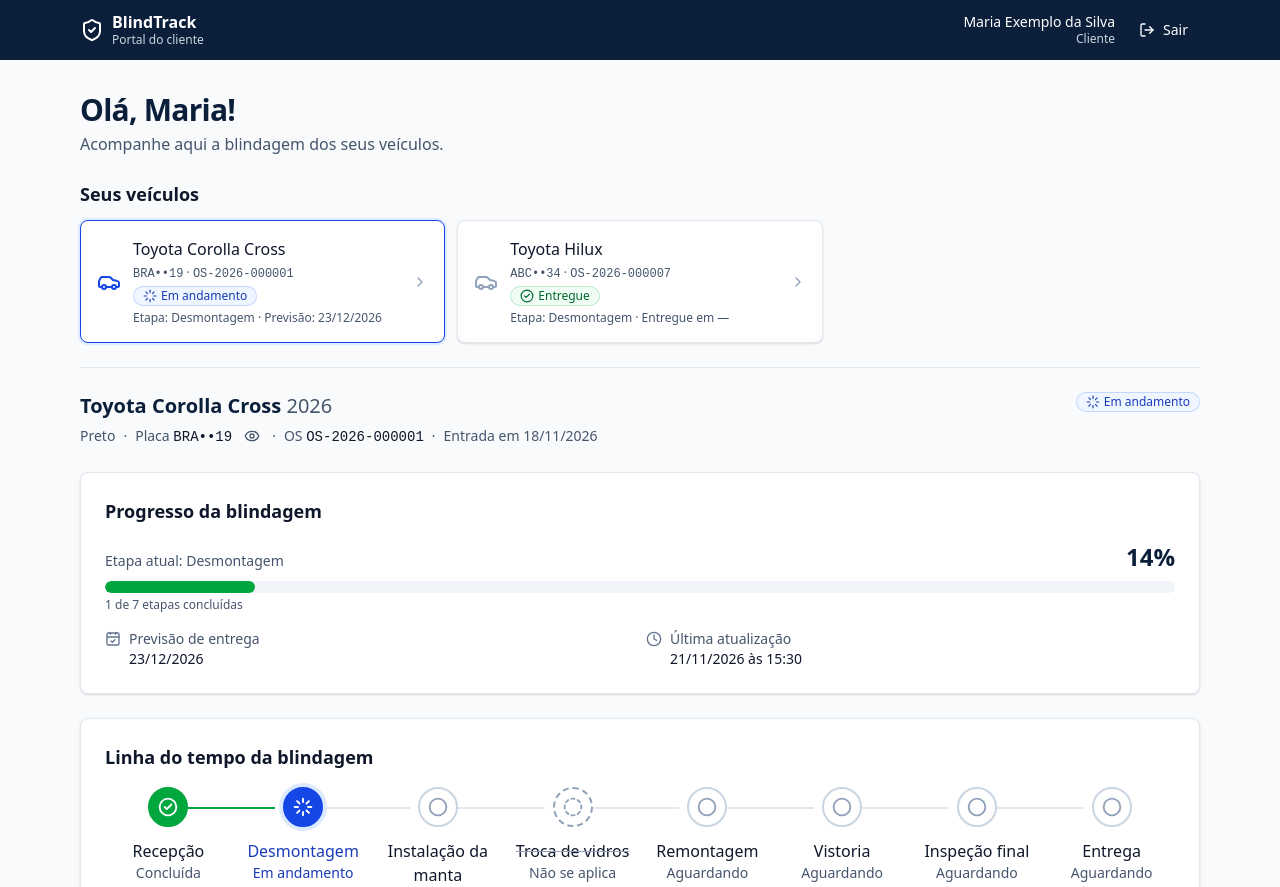
Test: Portal do cliente › com vários veículos, permite escolher qual acompanhar
Expected: the heading "Seus veículos" is shown, [80,182,199,206]
Expected: the heading "Toyota Corolla Cross 2026" is shown, [80,392,332,419]
Click the link "Toyota Hilux".
click(640, 282)  # box [457,220,823,343]
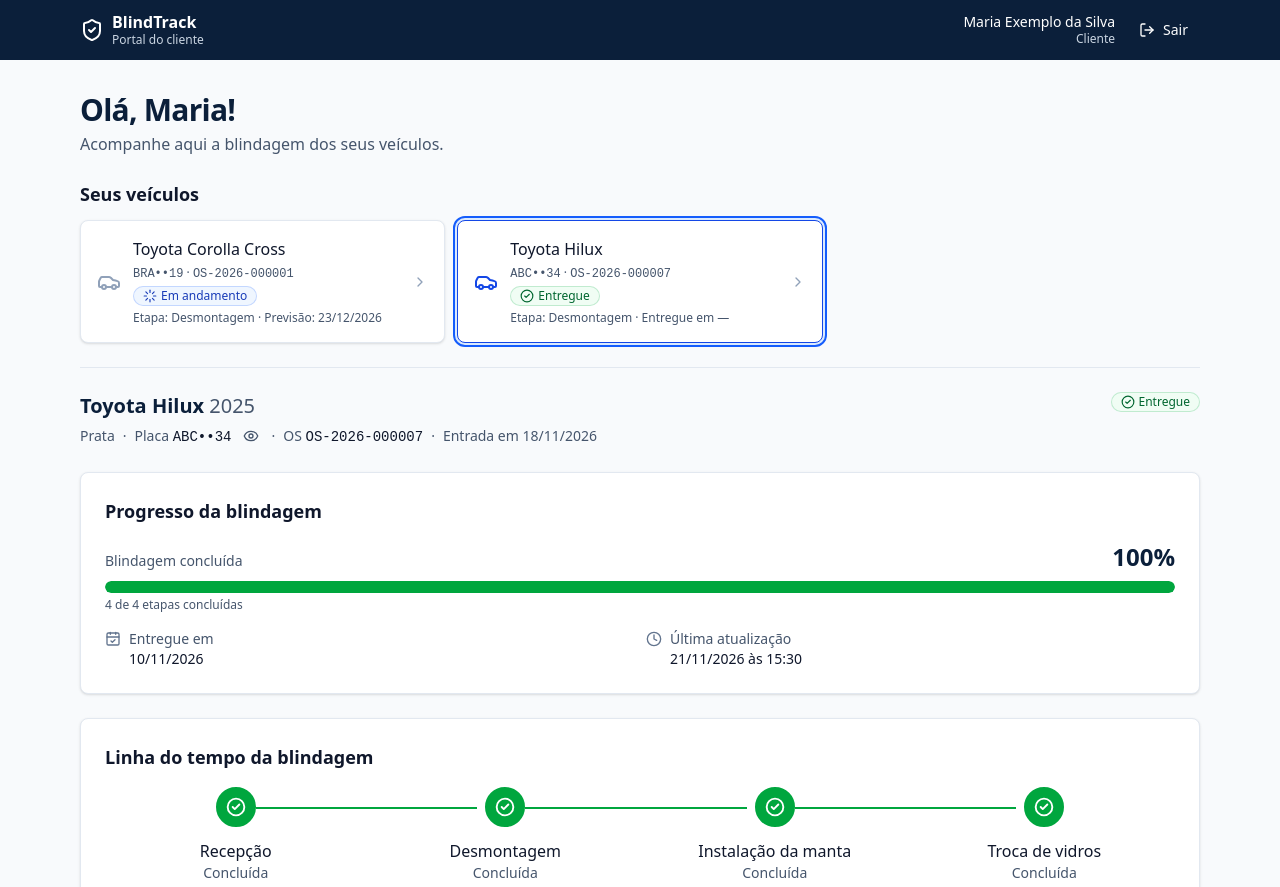
Now the heading "Toyota Hilux 2025" is shown, box [80,392,255,419]
Now the text "Blindagem concluída" is shown, box [105,551,243,571]
